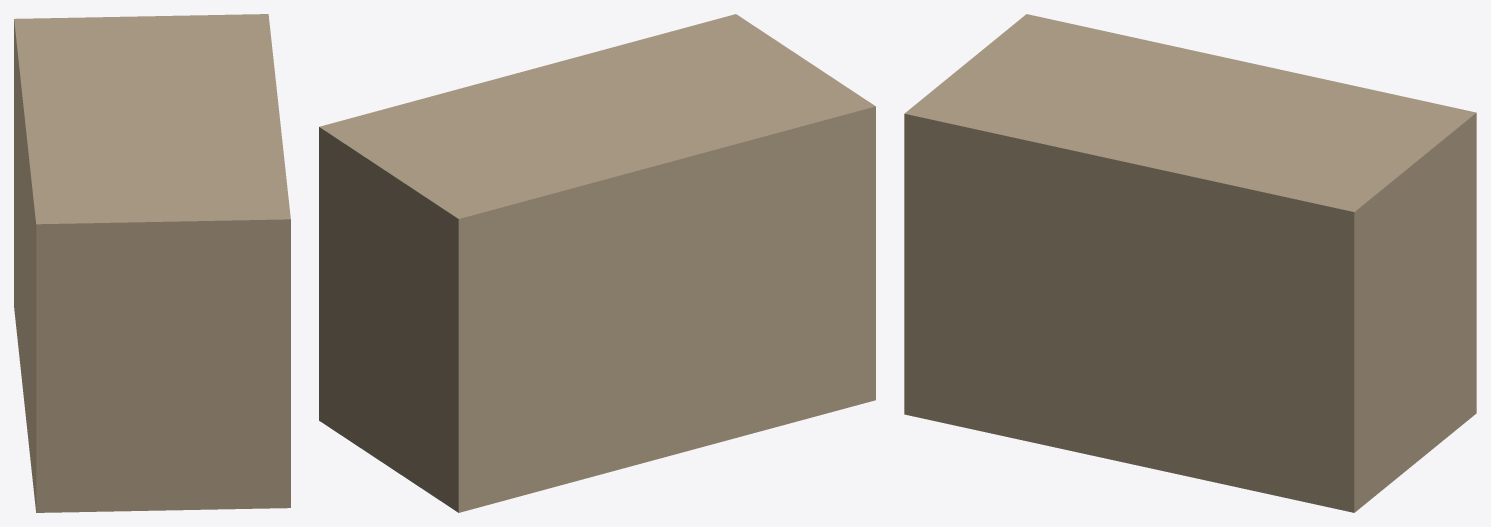
The model's file is bld_100469767.dae.
3 views of the same model, side by side, from view 1: azimuth 30°, elevation 25°; view 2: azimuth 150°, elevation 25°; view 3: azimuth 270°, elevation 25° (orthographic). The views are drawn at different scales.
Visible parts, largest first — view 1: bld_100469767; view 2: bld_100469767; view 3: bld_100469767.
Boxes of the visible parts, x1,y1,x2,y2 form: bld_100469767: (14,14,290,512); bld_100469767: (319,14,875,512); bld_100469767: (904,14,1476,512).
Bounding box in the file's own units: 11.3 × 13.79 × 8.
